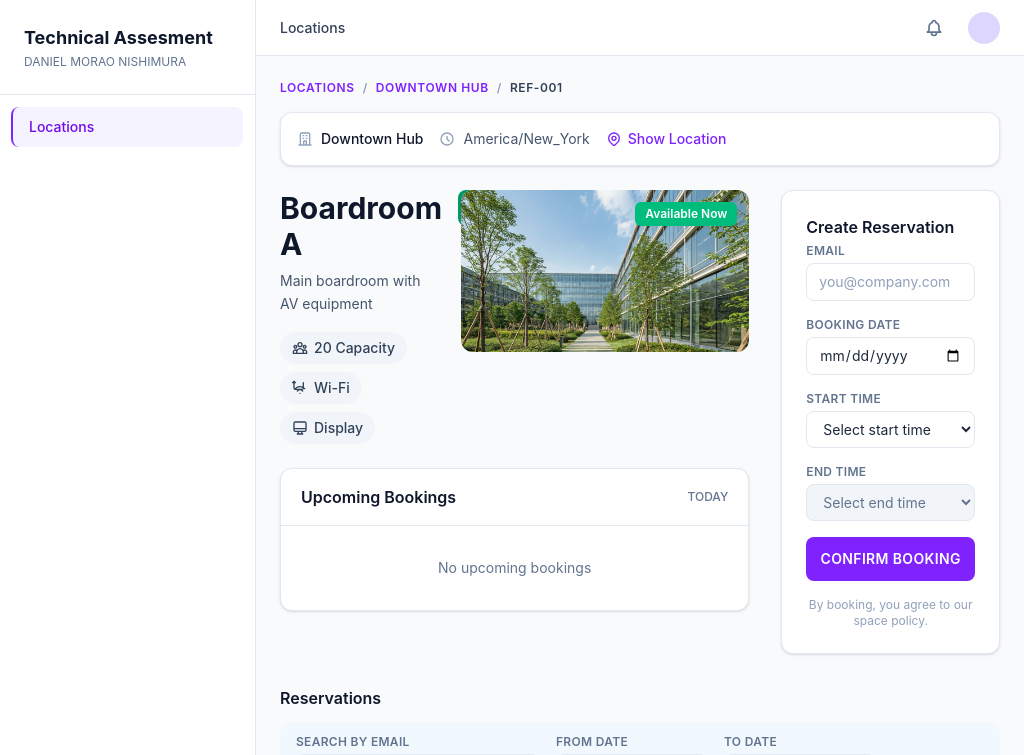
Space Detail page › shows validation errors when submitting empty form
What coordinates should you click on to do the following:
click the button "Confirm Booking"
I would click on:
 (891, 559)
Its box is [806,537,975,581].
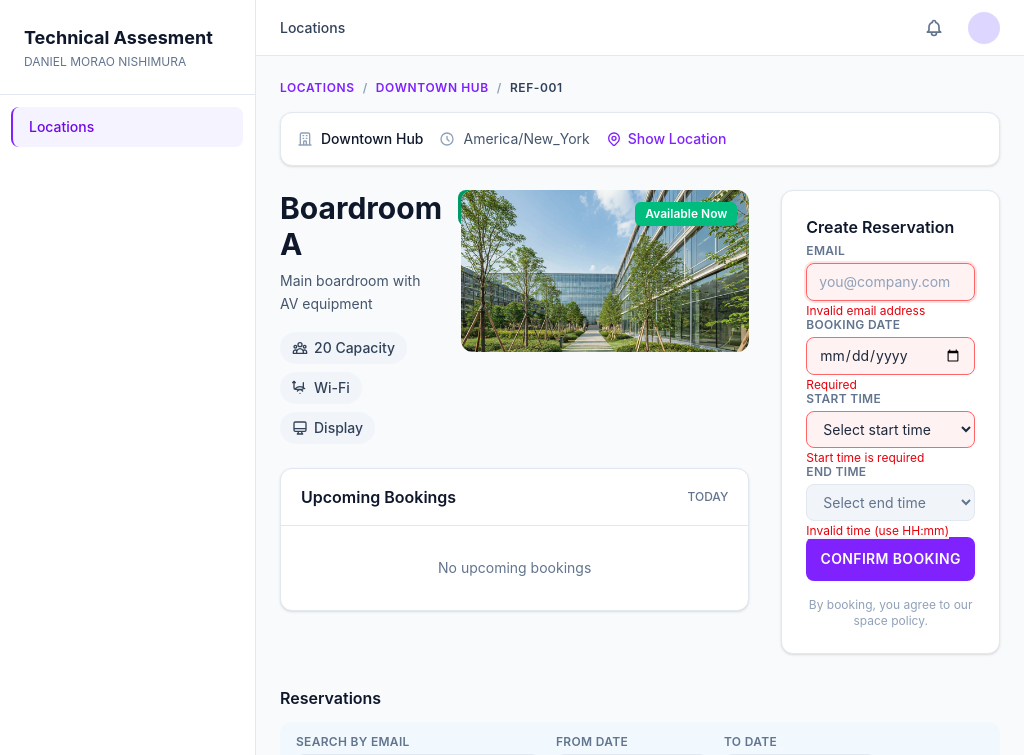
Expected: the text "Invalid email" is shown, [806,303,925,318]
Expected: the text "Required" is shown, [806,377,857,393]
